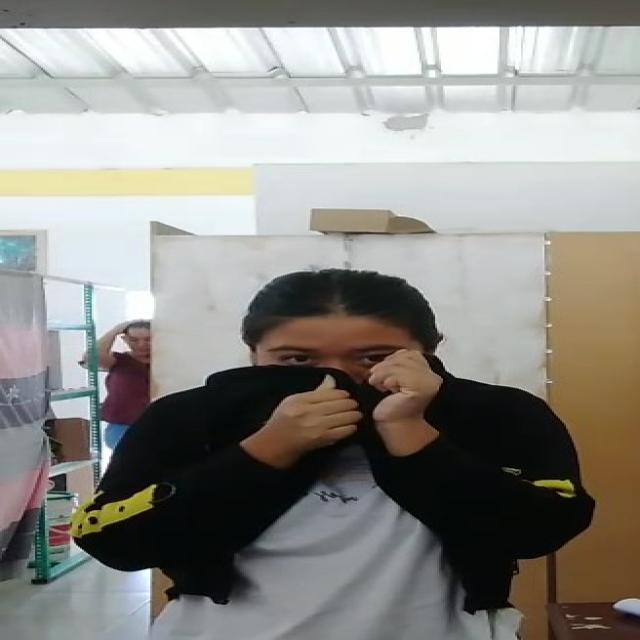8_ropa_rostro: (200, 348, 452, 461)
